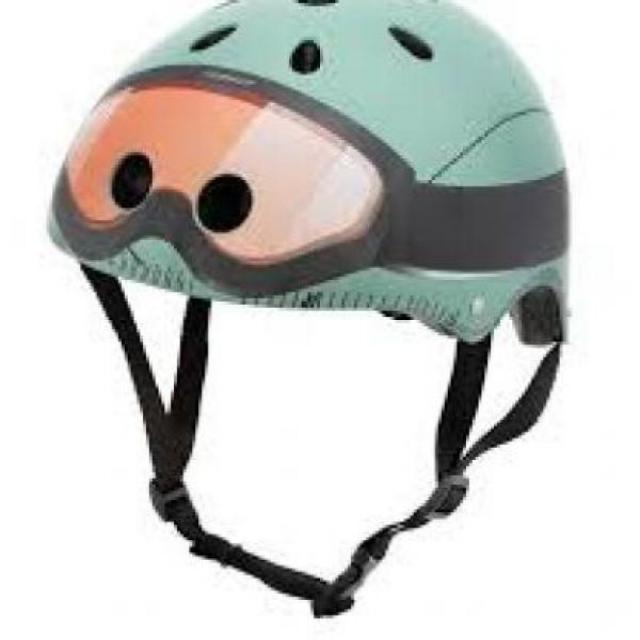Helmet: (41, 0, 574, 423)
